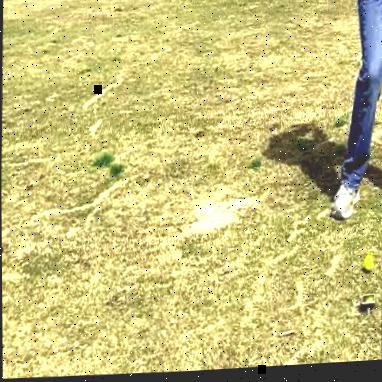ClubHead: (364, 258, 375, 278)
